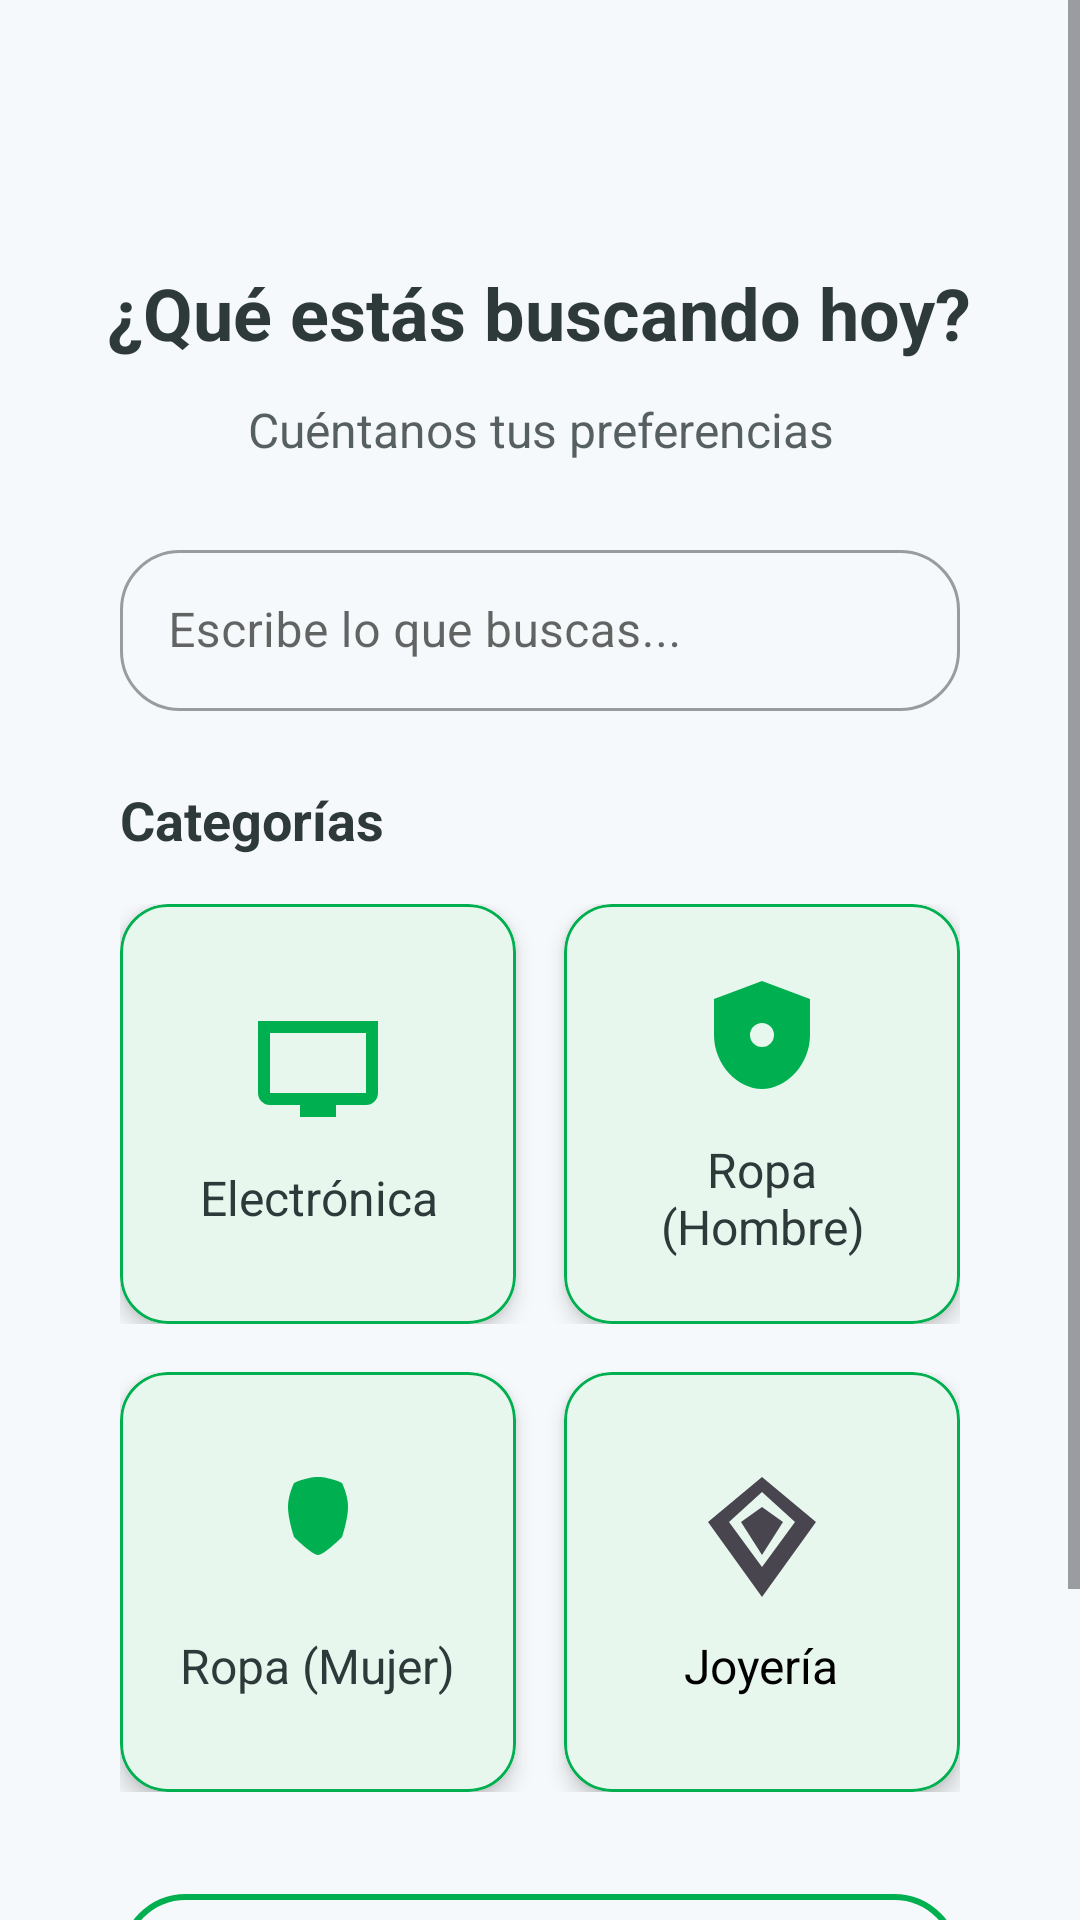

Screen size 1080w x 1920h. Icon name, then its box in pixels as (x1, y1, x2, y2):
electronics: (258, 1021, 378, 1117)
jewelry: (708, 1477, 816, 1597)
